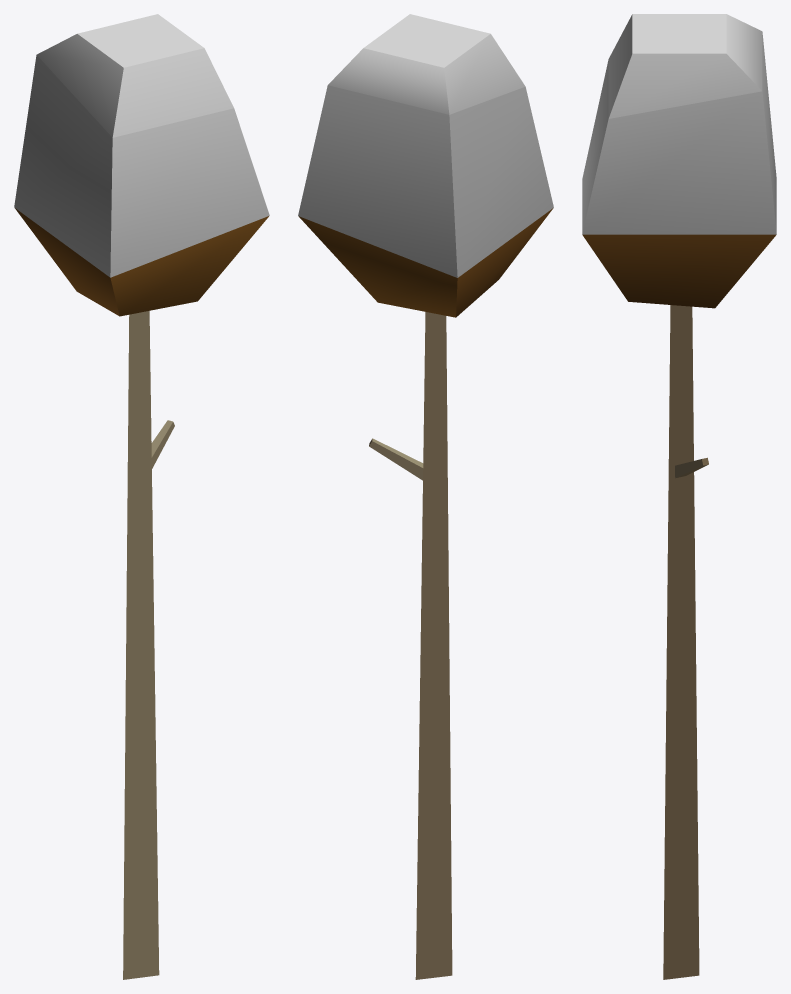
The model's file is SF_Env_Tree_Snow_Tall_01.fbx.
3 renders of one model, left to right at view 1: azimuth 30°, elevation 25°; view 2: azimuth 150°, elevation 25°; view 3: azimuth 270°, elevation 25°, orthographic.
Visible parts, largest first — view 1: SF_Env_Tree_Snow_Tall_01; view 2: SF_Env_Tree_Snow_Tall_01; view 3: SF_Env_Tree_Snow_Tall_01.
Part boxes in pixels (x1,y1,x2,y2): SF_Env_Tree_Snow_Tall_01: [14, 14, 269, 979]; SF_Env_Tree_Snow_Tall_01: [298, 14, 553, 979]; SF_Env_Tree_Snow_Tall_01: [582, 14, 776, 979].
Size of the model in its own units: 2.19 by 12.2 by 2.29.
